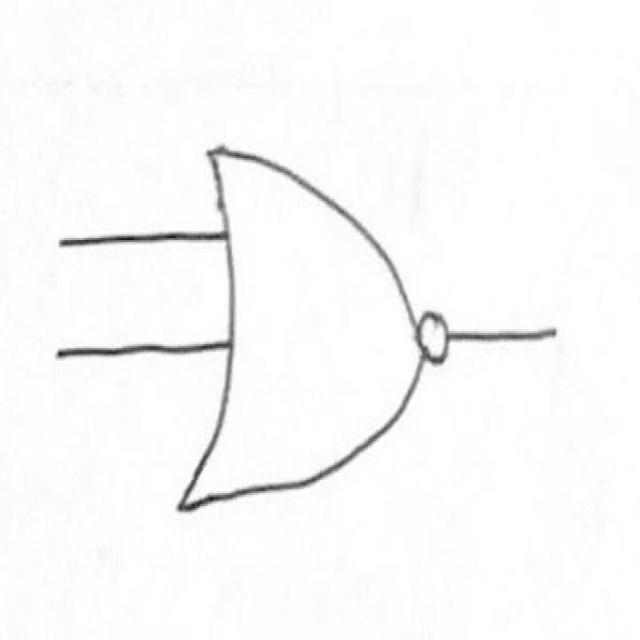NOR: (166, 92, 468, 549)
